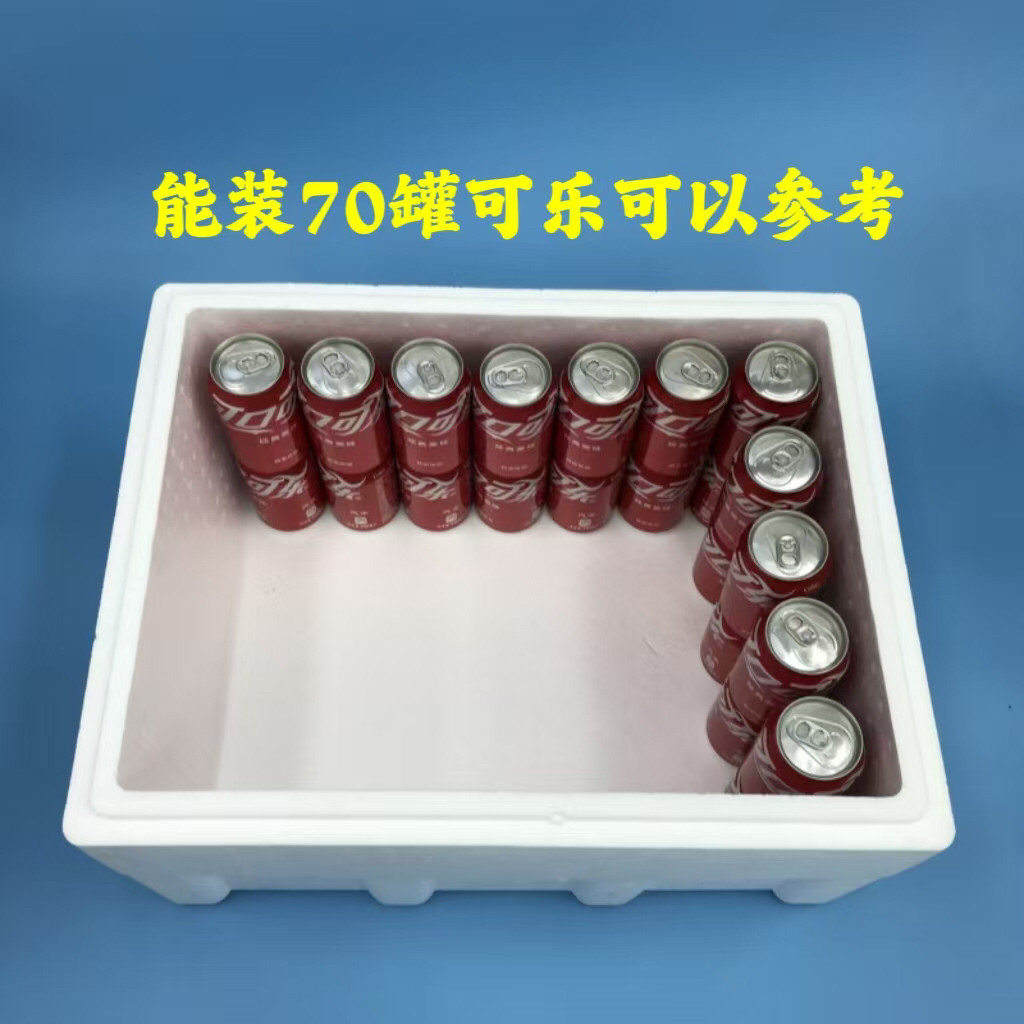泡沫箱: (63, 285, 953, 903)
